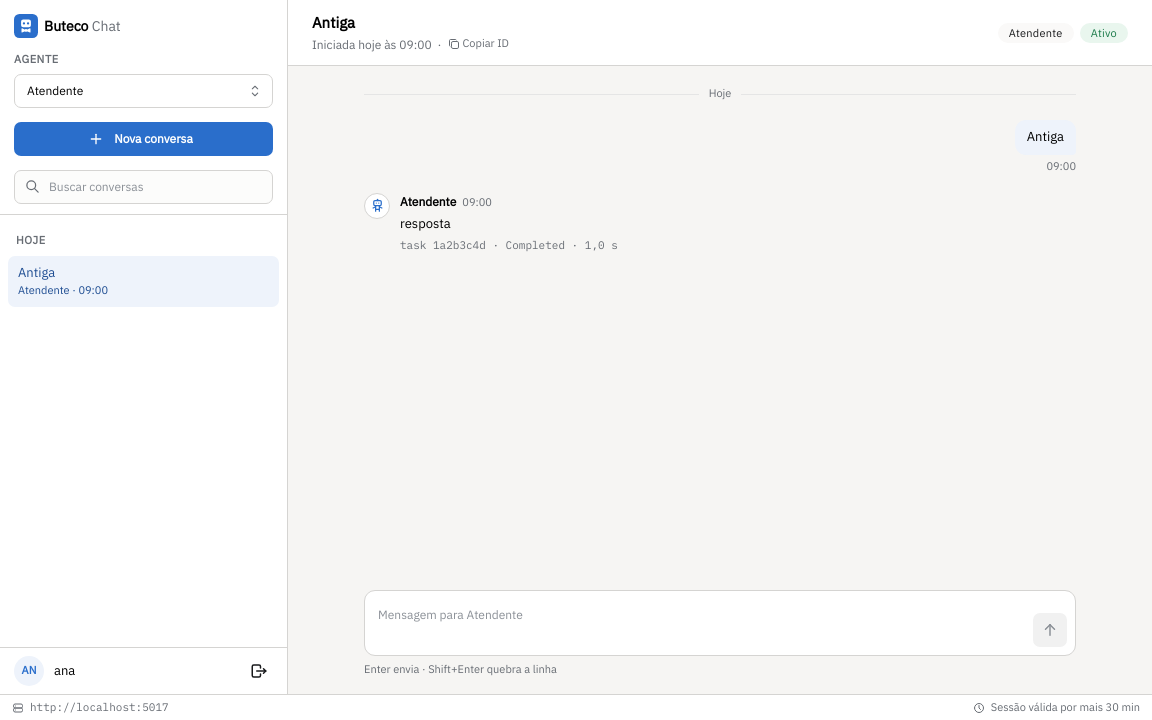
Test: várias conversas › REJECTED com a origem fechada aparece ao voltar
Click the button "Nova conversa". click: coordinates (144, 139)
box: [14,122,273,156]
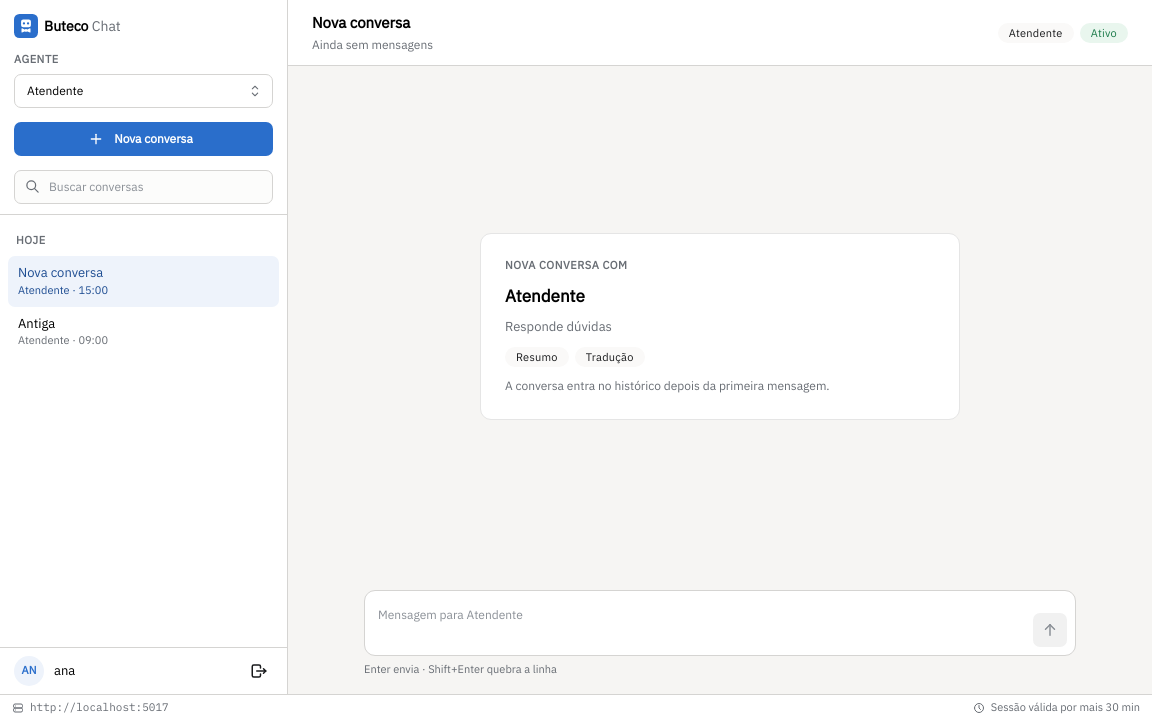
Type "nova pergunta" into the text box labelled "Mensagem". click: coordinates (699, 623)
box: [373,599,1025,647]
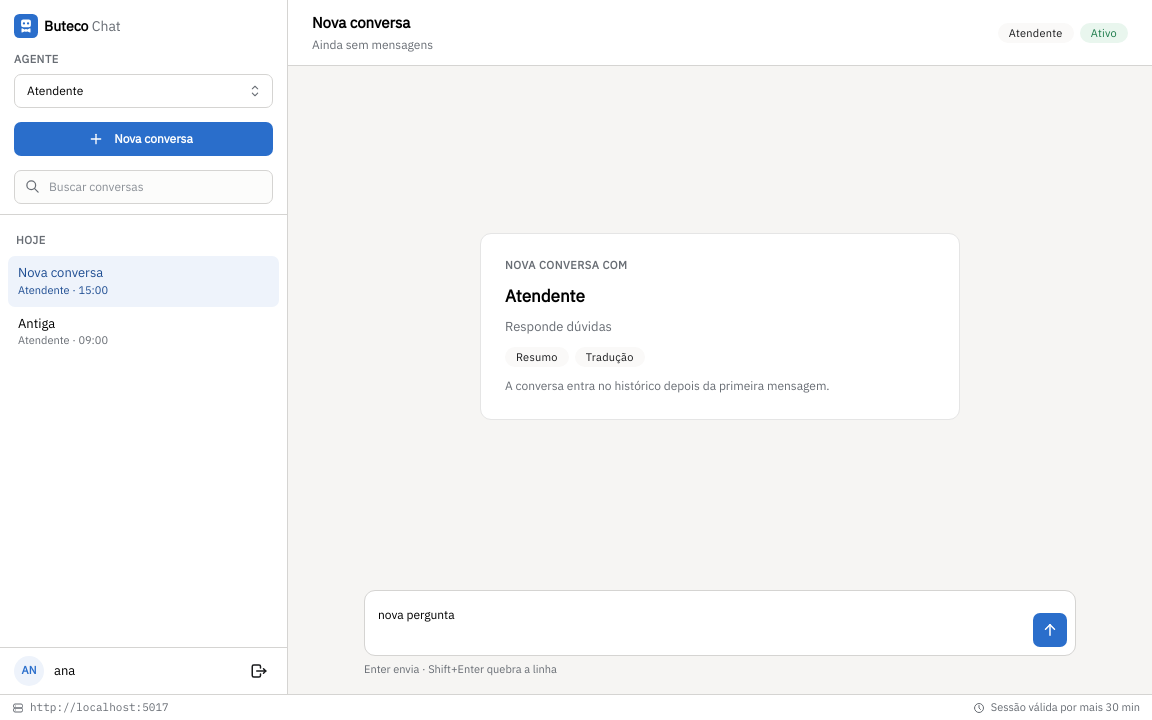
Press Enter in the text box named "Mensagem", box [373,599,1025,647]
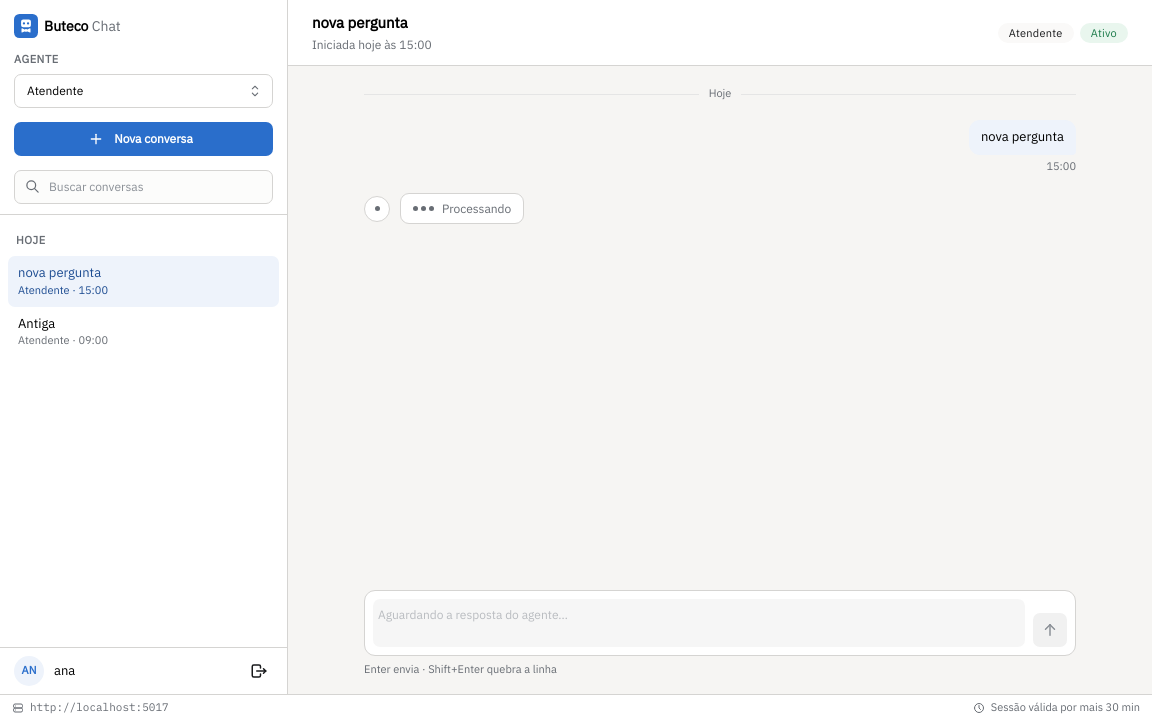
Click the button "Antiga Atendente · 09:00". click: coordinates (37, 323)
box: [8,307,279,357]
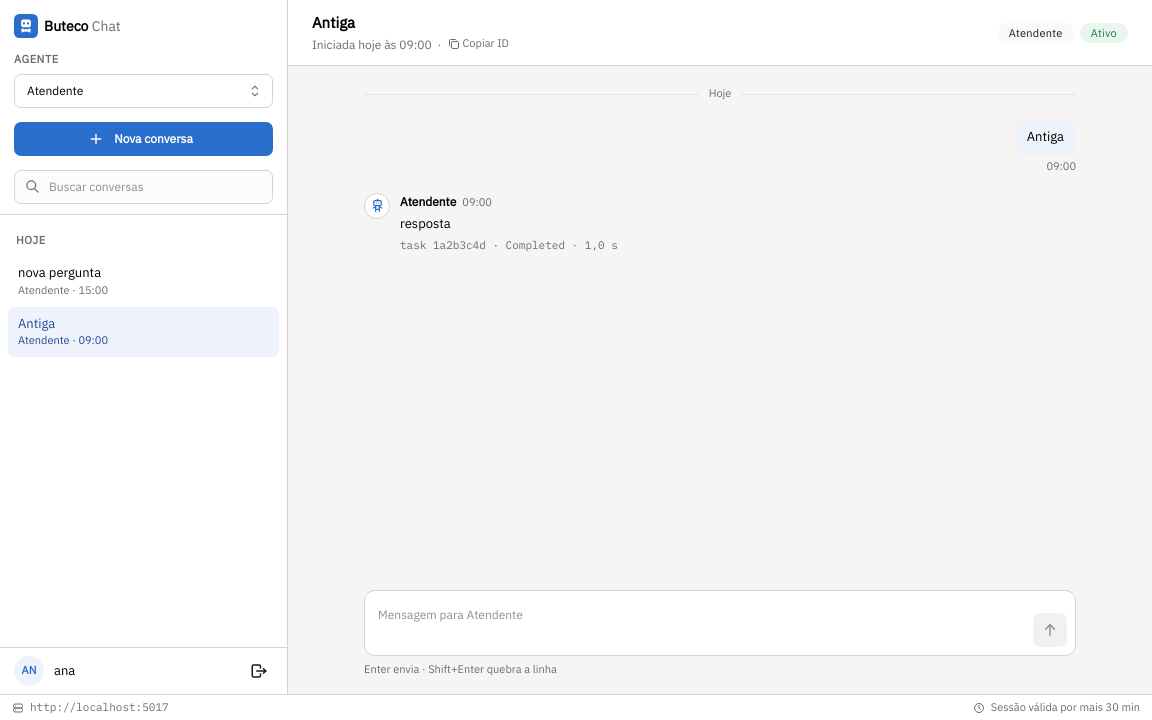
Click the button "nova pergunta Atendente · 15:00". click: coordinates (60, 272)
box: [8,256,279,307]
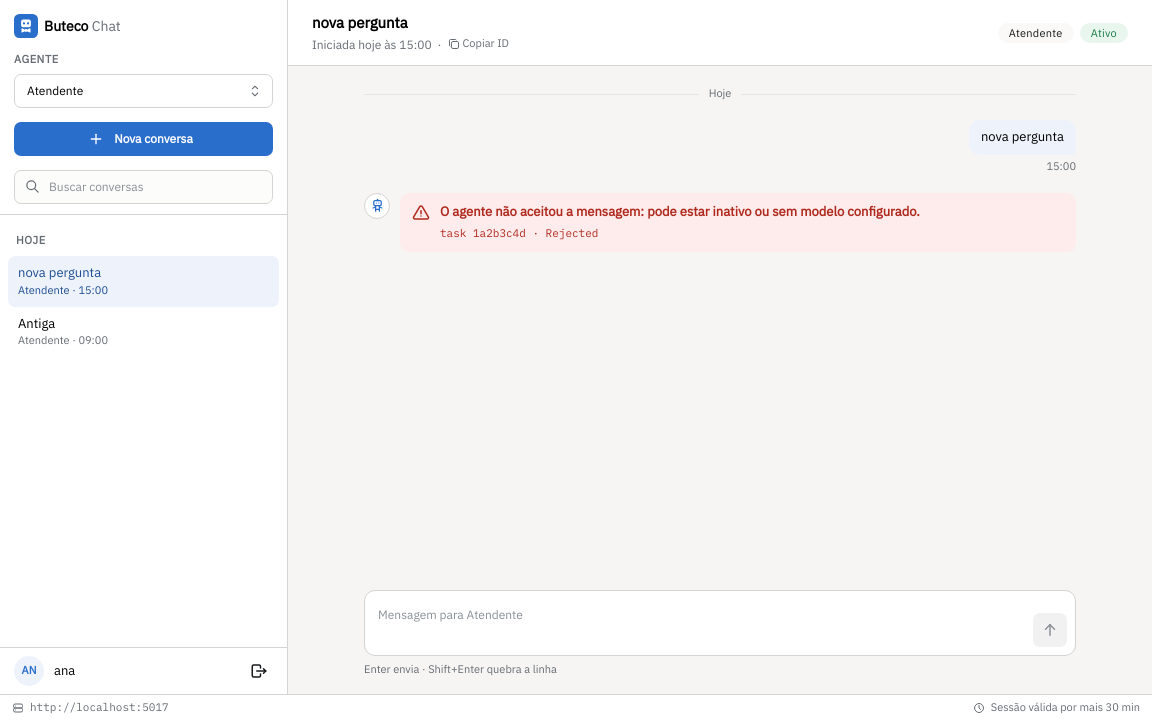
Check: the message is shown, box [400,193,1076,252]
